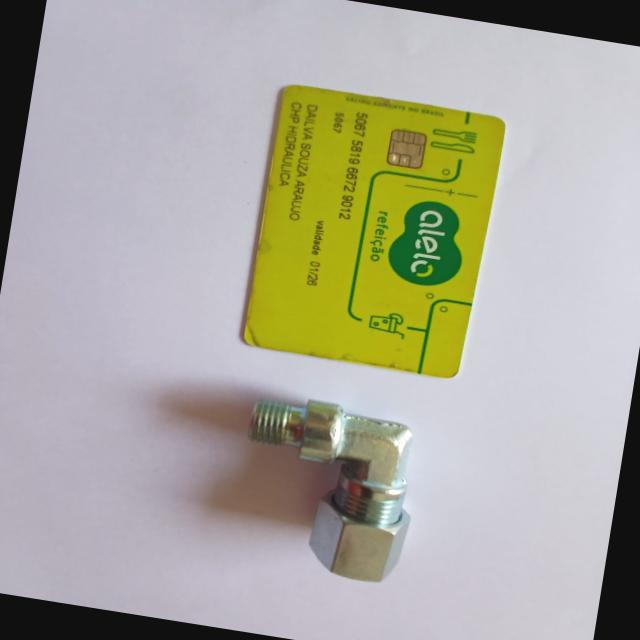cartao: (242, 82, 504, 381)
rosca_externa: (229, 390, 427, 589)
